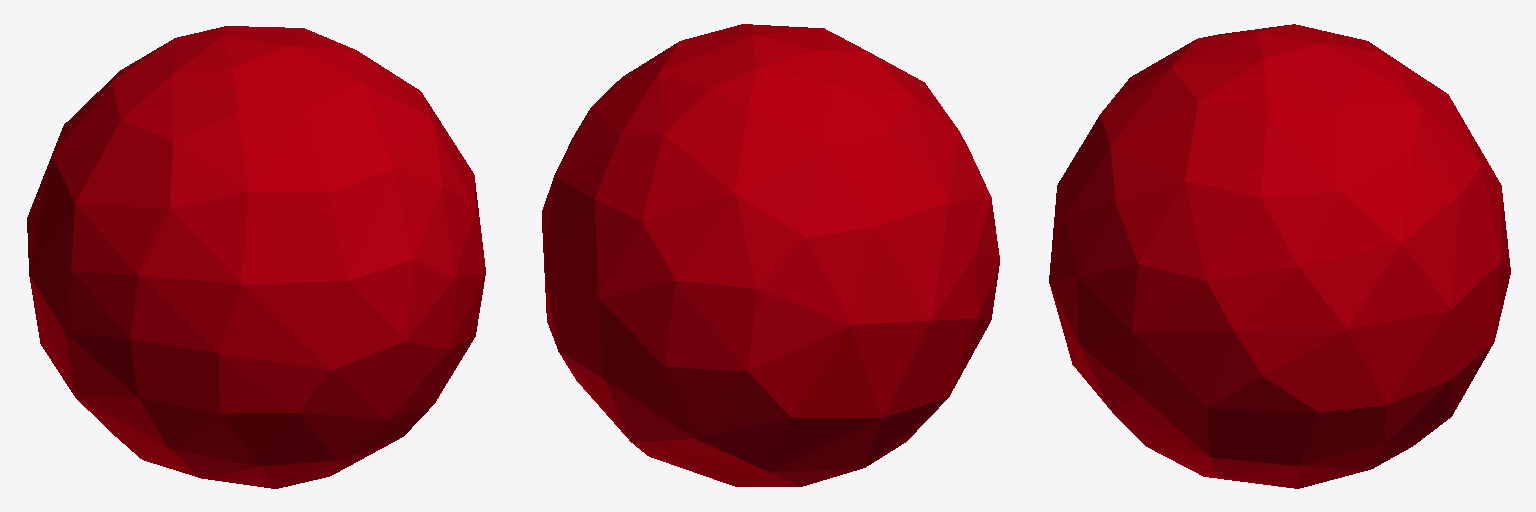
The model's file is particle.obj.
3 views of the same model, side by side, from view 1: azimuth 30°, elevation 25°; view 2: azimuth 150°, elevation 25°; view 3: azimuth 270°, elevation 25° (orthographic).
Visible parts, largest first — view 1: Sphere; view 2: Sphere; view 3: Sphere.
Boxes of the visible parts, x1=… form: Sphere: x1=27, y1=26, x2=485, y2=488; Sphere: x1=542, y1=24, x2=999, y2=486; Sphere: x1=1049, y1=24, x2=1510, y2=488.
Bounding box in the file's own units: 0.2001 × 0.2 × 0.1996.